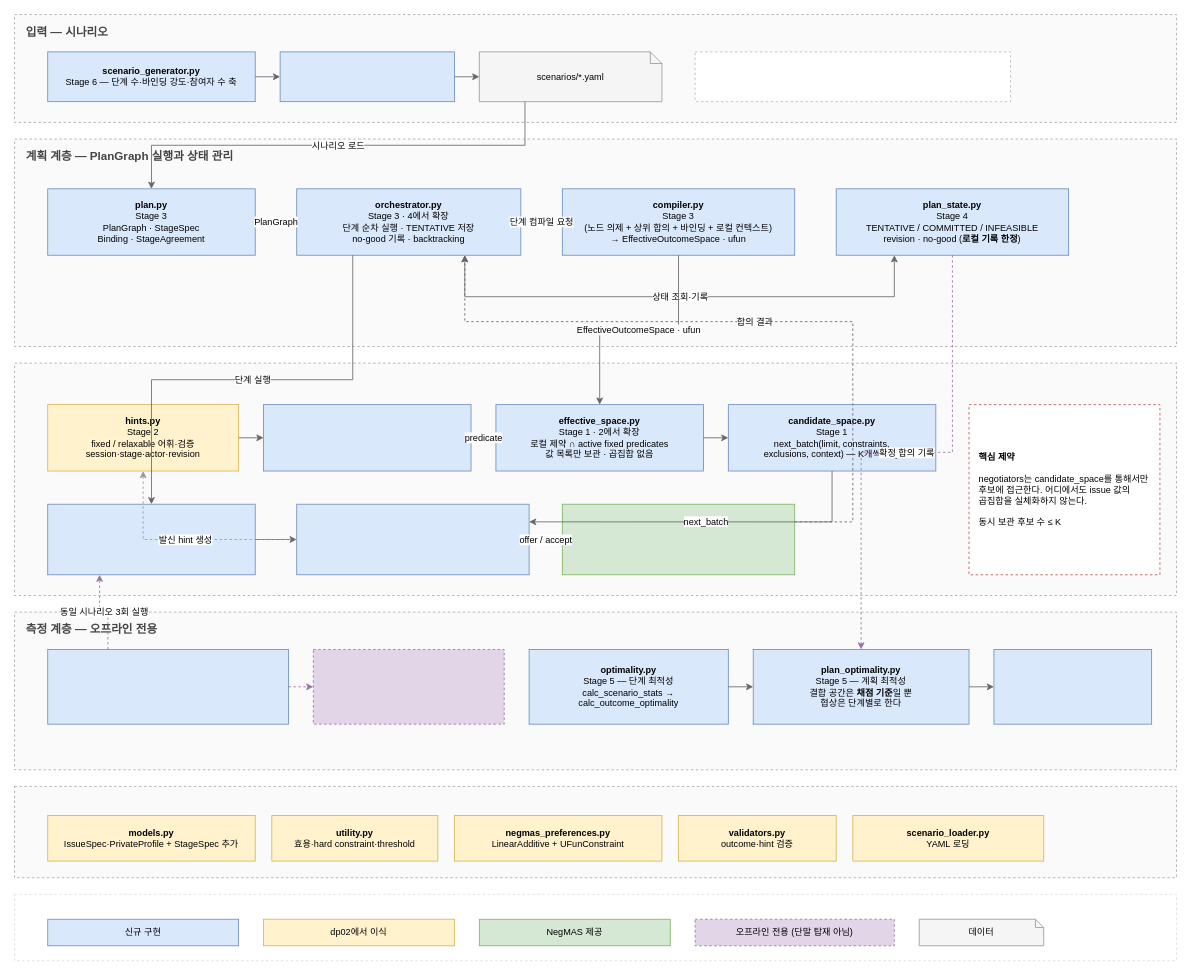
The diagram is 1191 pixels wide and 975 high, and some of its shapes have lost their labels. Here are the shapes that lost their labels. From the top down, the box of each, then its label:
(279, 51, 454, 102): bias_audit.py Stage 6 — 축 균형 감사
(694, 51, 1011, 102): Stage 1~5는 수기 작성 시나리오를 사용한다. 생성기는 Stage 6에서 도입한다.
(263, 404, 471, 471): hint_predicate.py Stage 2 fixed → issue == offered value
(14, 362, 1177, 596): 협상 계층 — 후보 공급과 SAO 세션
(47, 503, 255, 575): runner.py Stage 1 단일 단계 실행 · 구조화 로그
(296, 503, 529, 575): negotiators.py Stage 1 · 2에서 확장 SAONegotiator 상속 정렬 가중치 경로 없음
(561, 503, 795, 575): NegMAS SAOMechanism 런타임 협상 프로토콜 ExtendedOutcome(outcome, data)
(47, 649, 288, 724): baselines.py Stage 5 — 손실 원인 분해 3회 실행 SAO@운영 n_steps / SAO@큰 n_steps / TAU
(312, 649, 504, 724): NegMAS TAUMechanism 프로토콜 완전성 기준선 단말 탑재 대상 아님
(993, 649, 1152, 724): metrics.py Stage 5 집계·요약
(14, 786, 1177, 878): 공통 — dp02에서 이식 (모든 계층이 참조)
(14, 893, 1177, 961): 범례
